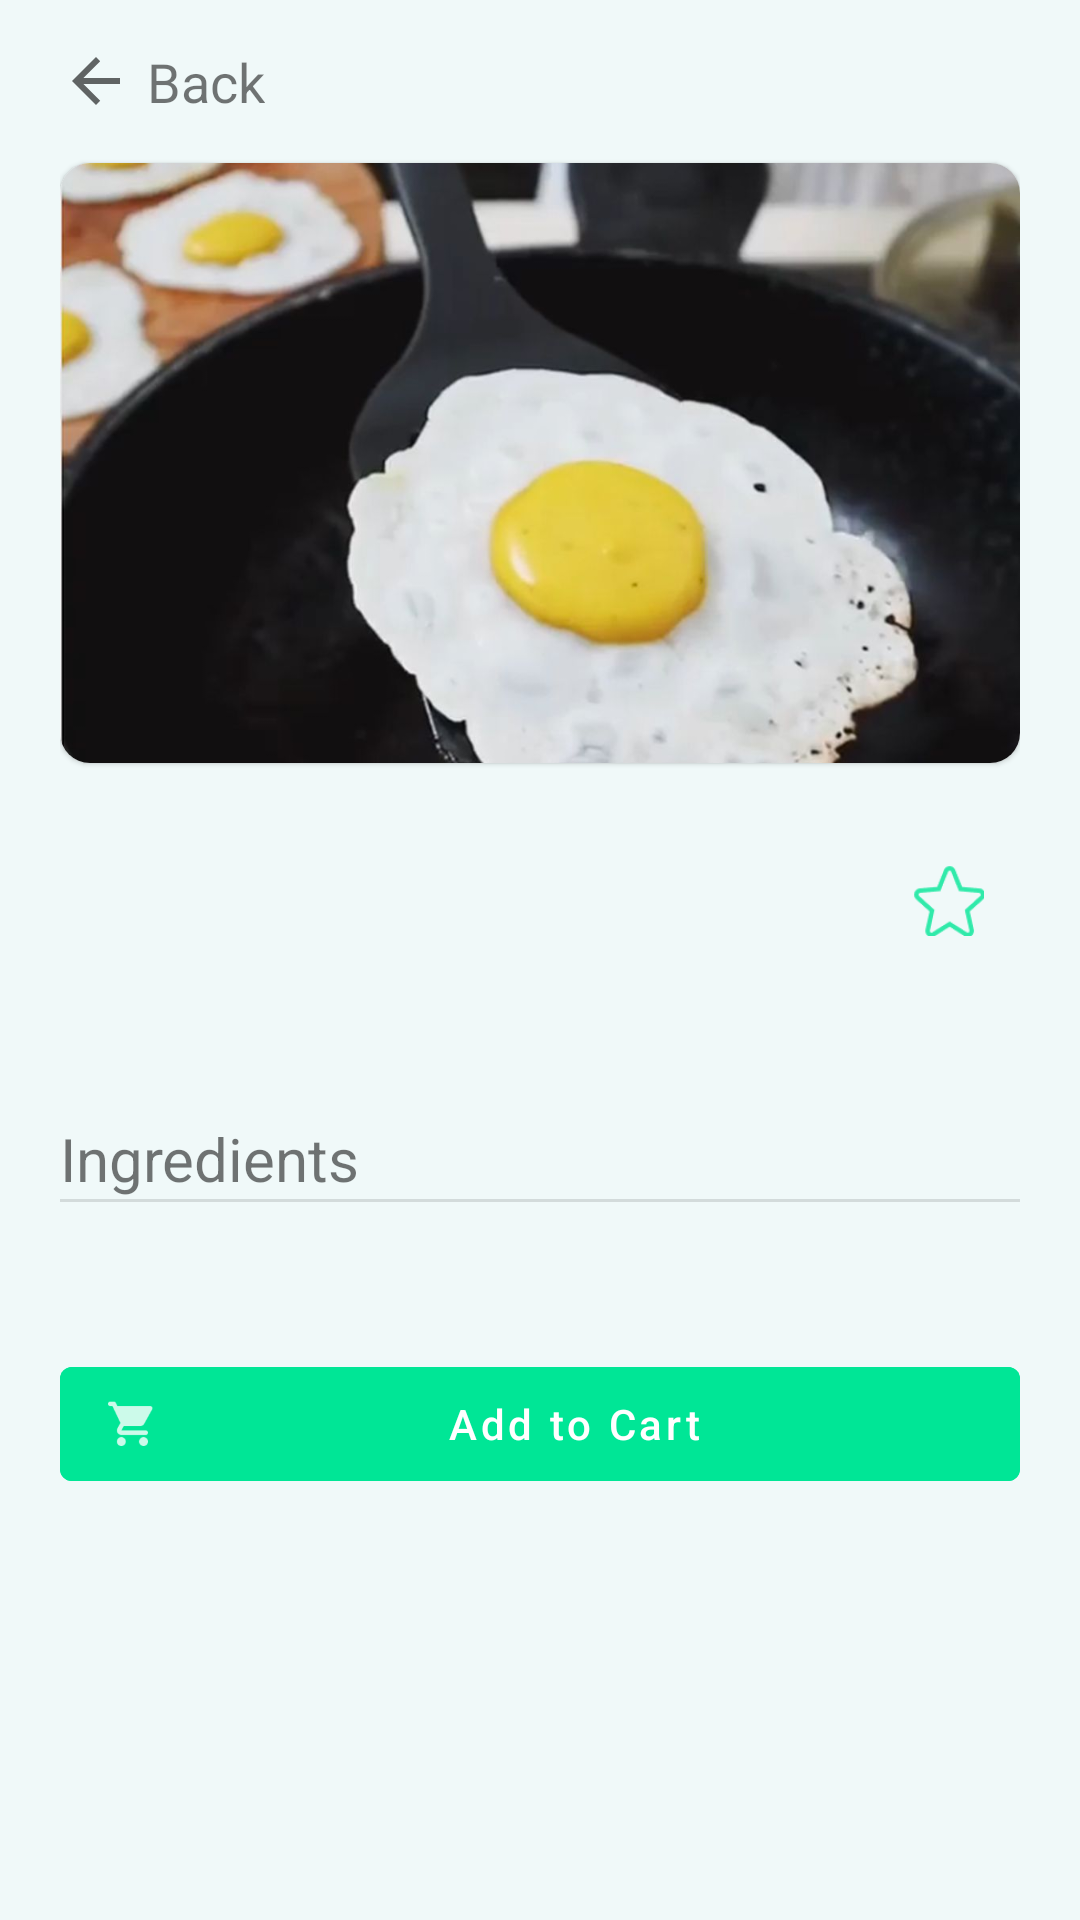

Locate icon controls on the screen. Image size 1080px x 1920px, boxes as (x1, y1, x2, y2).
star: (914, 866, 984, 936)
